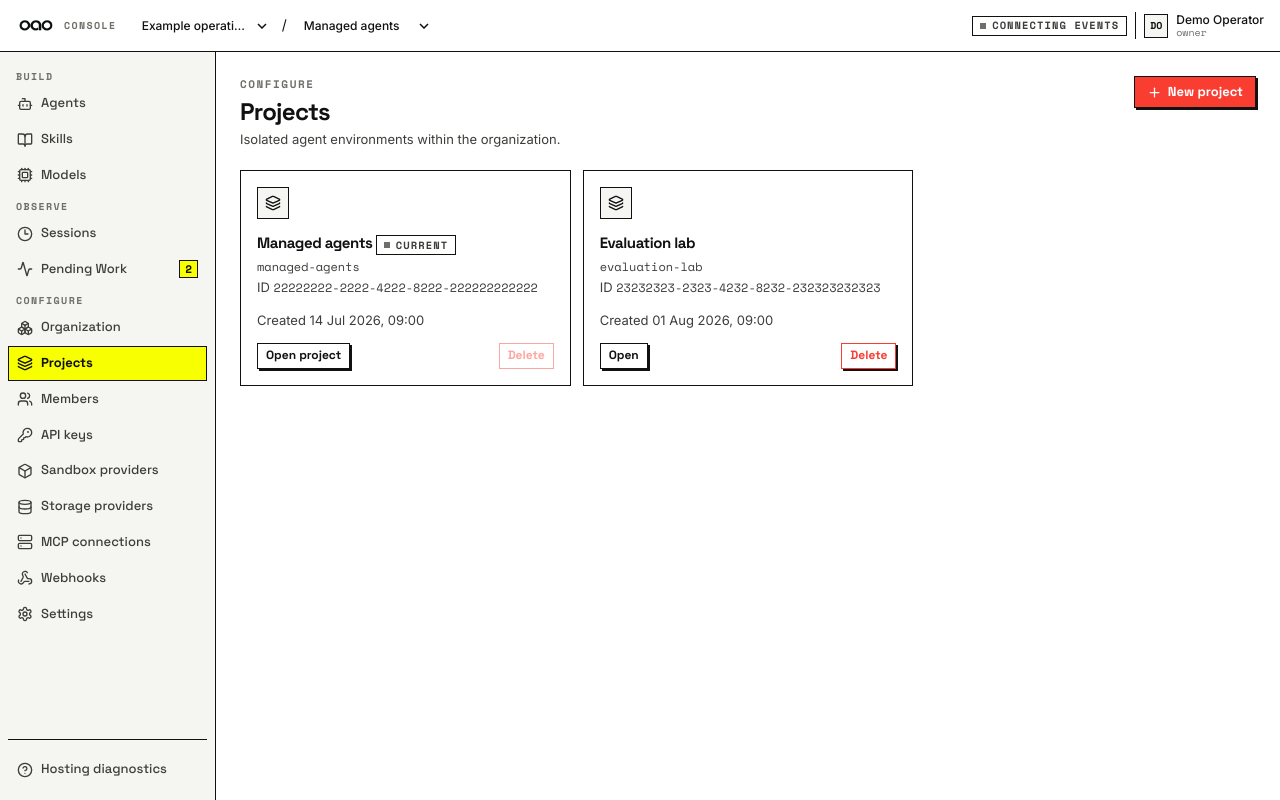
Test case: management console › opens another project and switches the active context
The image size is (1280, 800).
Expected: the text "evaluation-lab" is shown, x1=600 y1=258 x2=702 y2=275
Click the button "Open": (624, 356) x1=600 y1=343 x2=648 y2=369
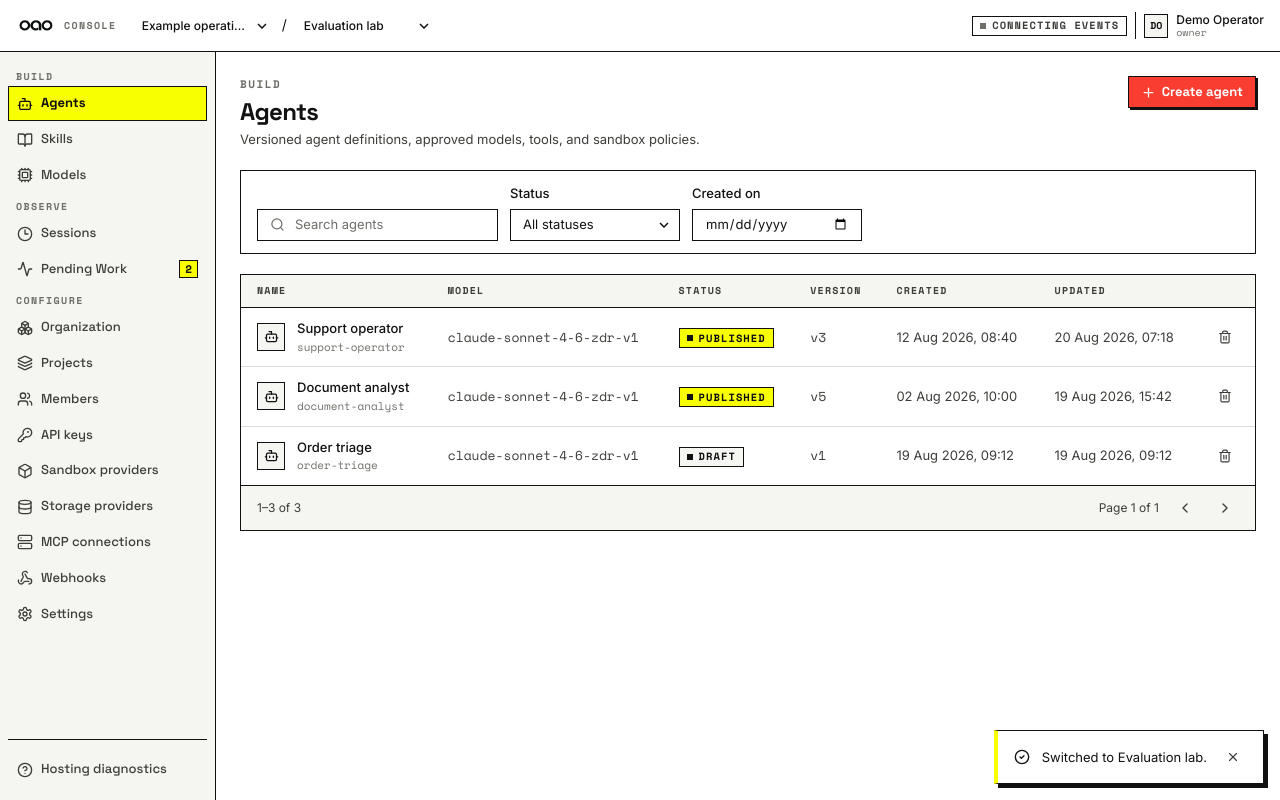
Expected: the heading "Agents" is shown, x1=240 y1=96 x2=318 y2=127
